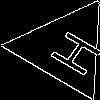H: (39, 23, 100, 79)
